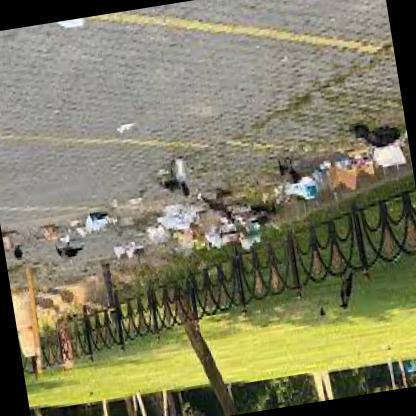Garbage: (150, 200, 210, 260), (200, 196, 251, 255), (73, 185, 115, 247), (320, 144, 372, 193), (283, 176, 326, 214)
